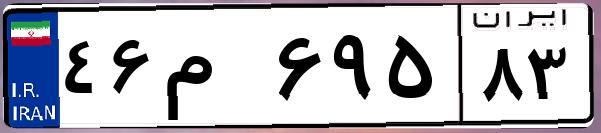3: (525, 38, 570, 115)
4: (57, 26, 110, 100)
5: (385, 28, 445, 110)
6: (270, 28, 330, 110), (110, 28, 158, 98)
8: (475, 38, 525, 113)
9: (330, 28, 385, 110)
م: (158, 20, 270, 120)
